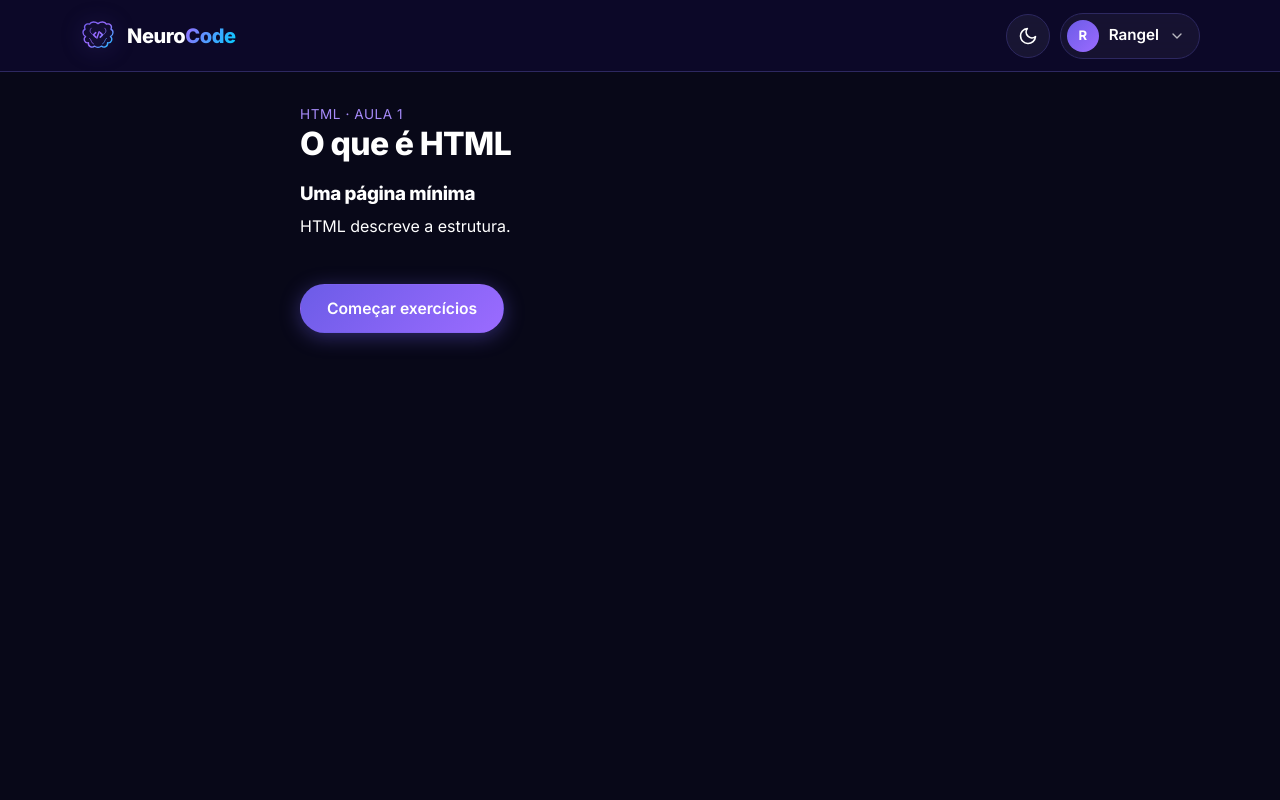
Tela de Aula — sessão de exercícios › mostra a teoria, inicia a sessão e conclui com aprovação
expect the heading "Uma página mínima" is shown: met, box [300, 182, 475, 205]
inicia a sessão
What coordinates should you click on to do the following:
click the button "Começar exercícios"
I would click on:
 (402, 309)
Its box is [300, 284, 504, 333].
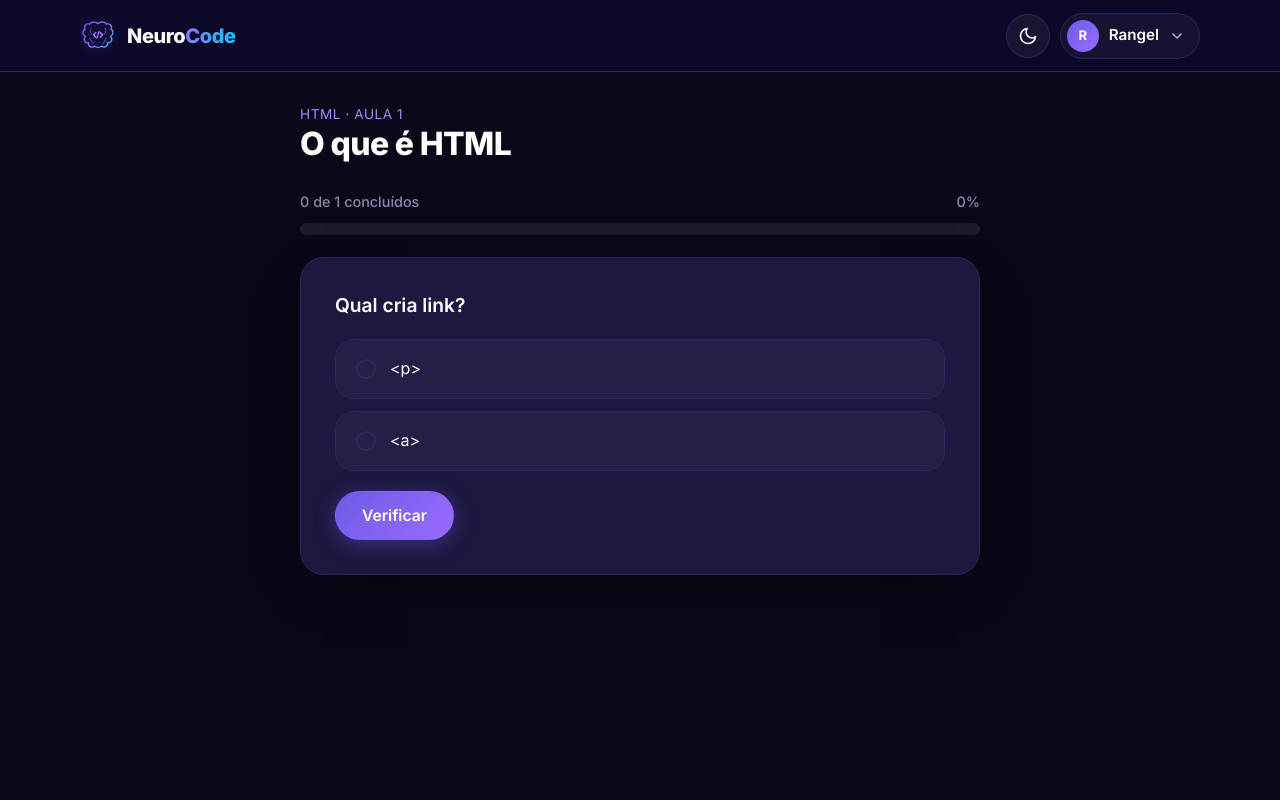
expect the text "Qual cria link?" is shown: met, box [335, 293, 465, 317]
escolhe a alternativa correta e verifica
What coordinates should you click on to do the following:
click the button "<a>"
I would click on:
 (405, 440)
Its box is [335, 411, 945, 471].
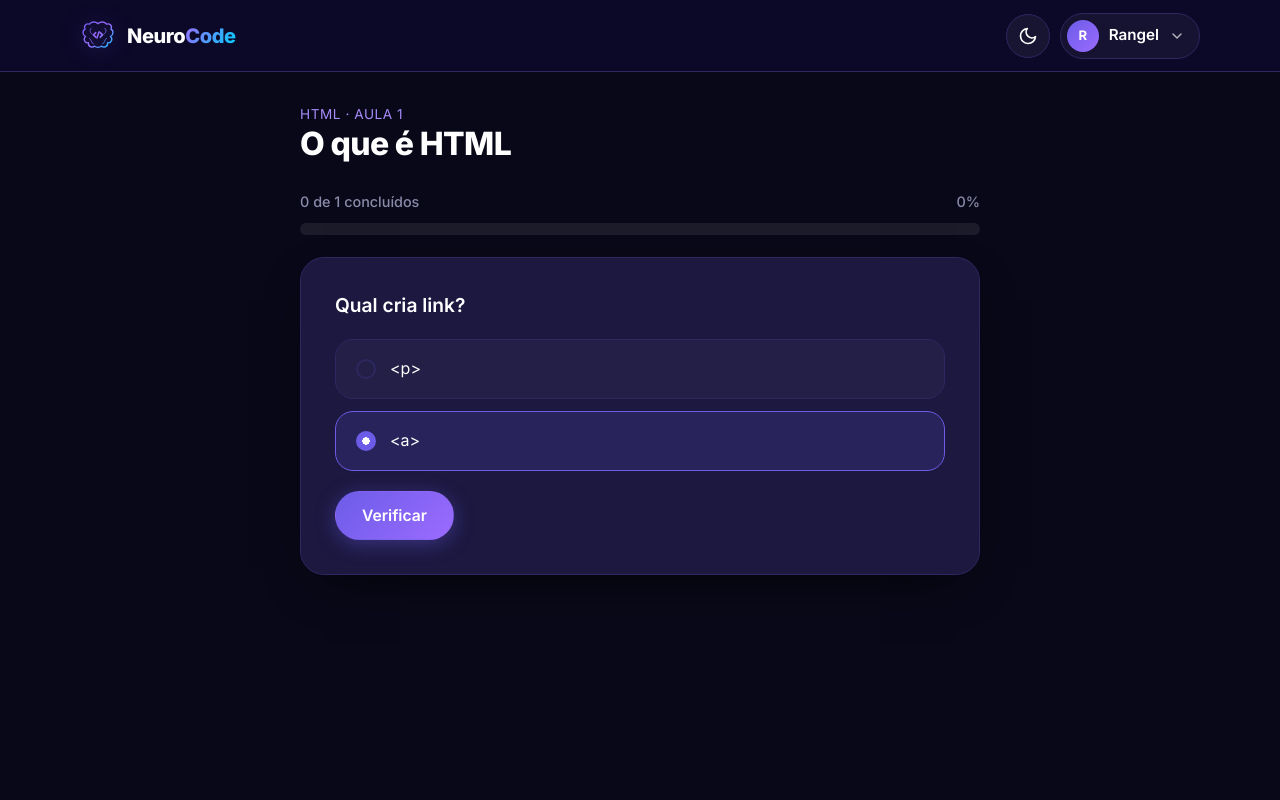
What coordinates should you click on to do the following:
click the button "Verificar"
I would click on:
 (394, 516)
Its box is [335, 491, 454, 540].
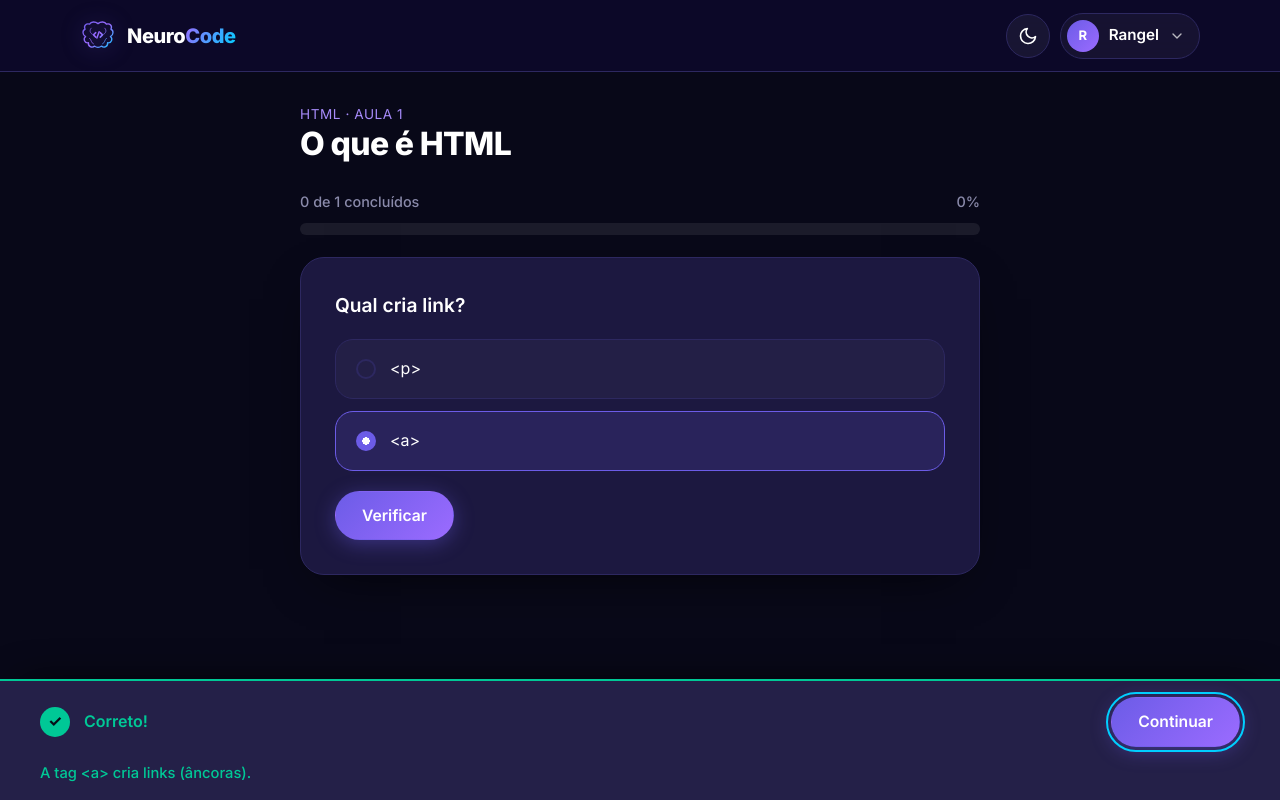
expect the text "A tag <a> cria links (âncoras)." is shown: met, box [40, 764, 251, 782]
What coordinates should you click on to do the following:
click the button "Continuar"
I would click on:
 (1176, 722)
Its box is [1111, 697, 1240, 747].
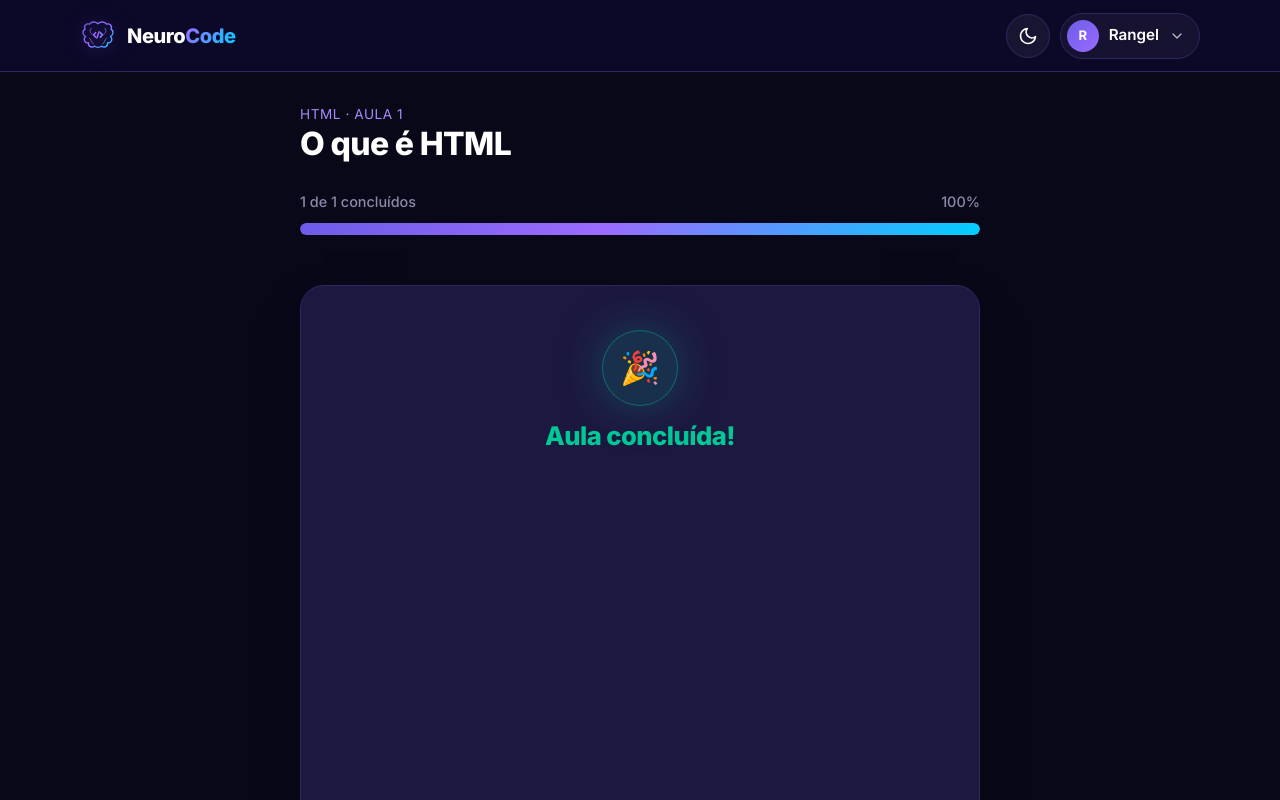
expect the heading "Aula concluída!" is shown: met, box [545, 422, 735, 450]
